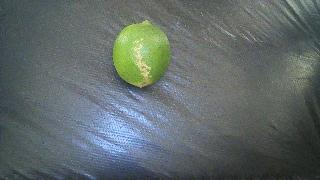DESECHO: (112, 20, 171, 88)
